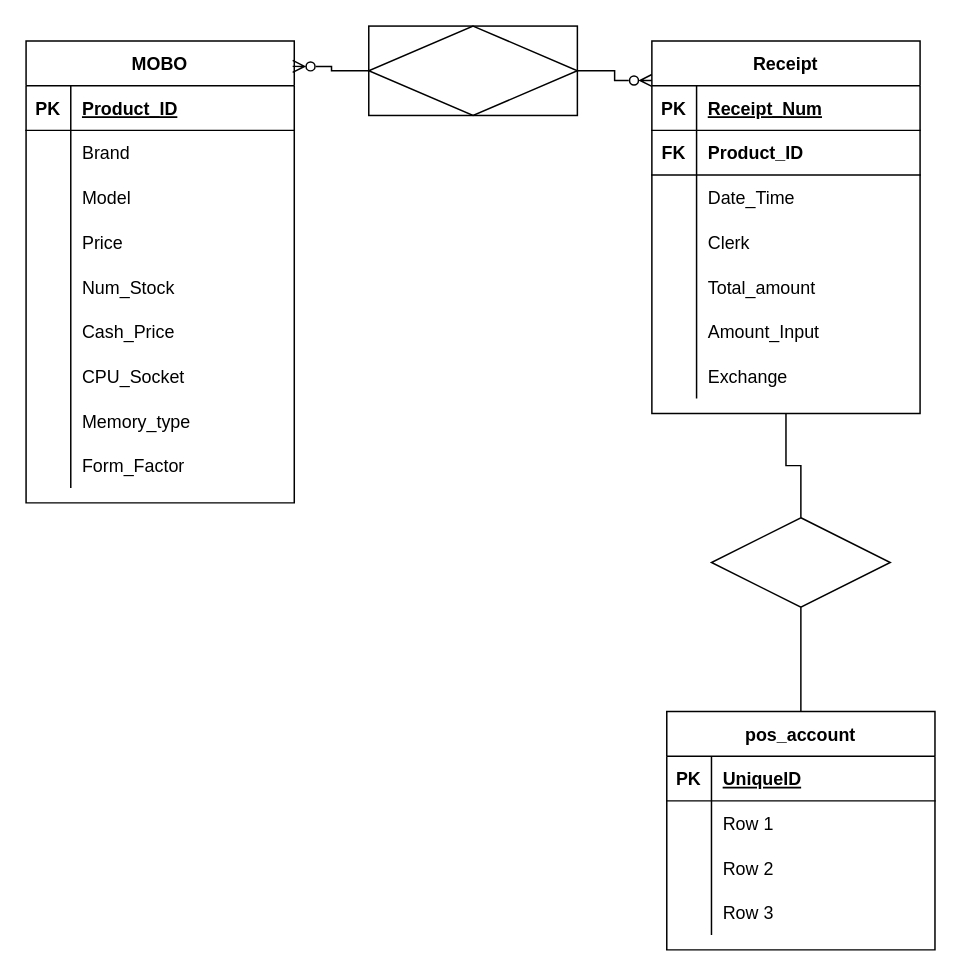
This 961x976 diagram has some shape labels left out. The centre of each missing label's shape, as x and y in pixels:
"generate" belongs at (x=800, y=561).
"Product_ID Receipt_Num" belongs at (x=472, y=70).
